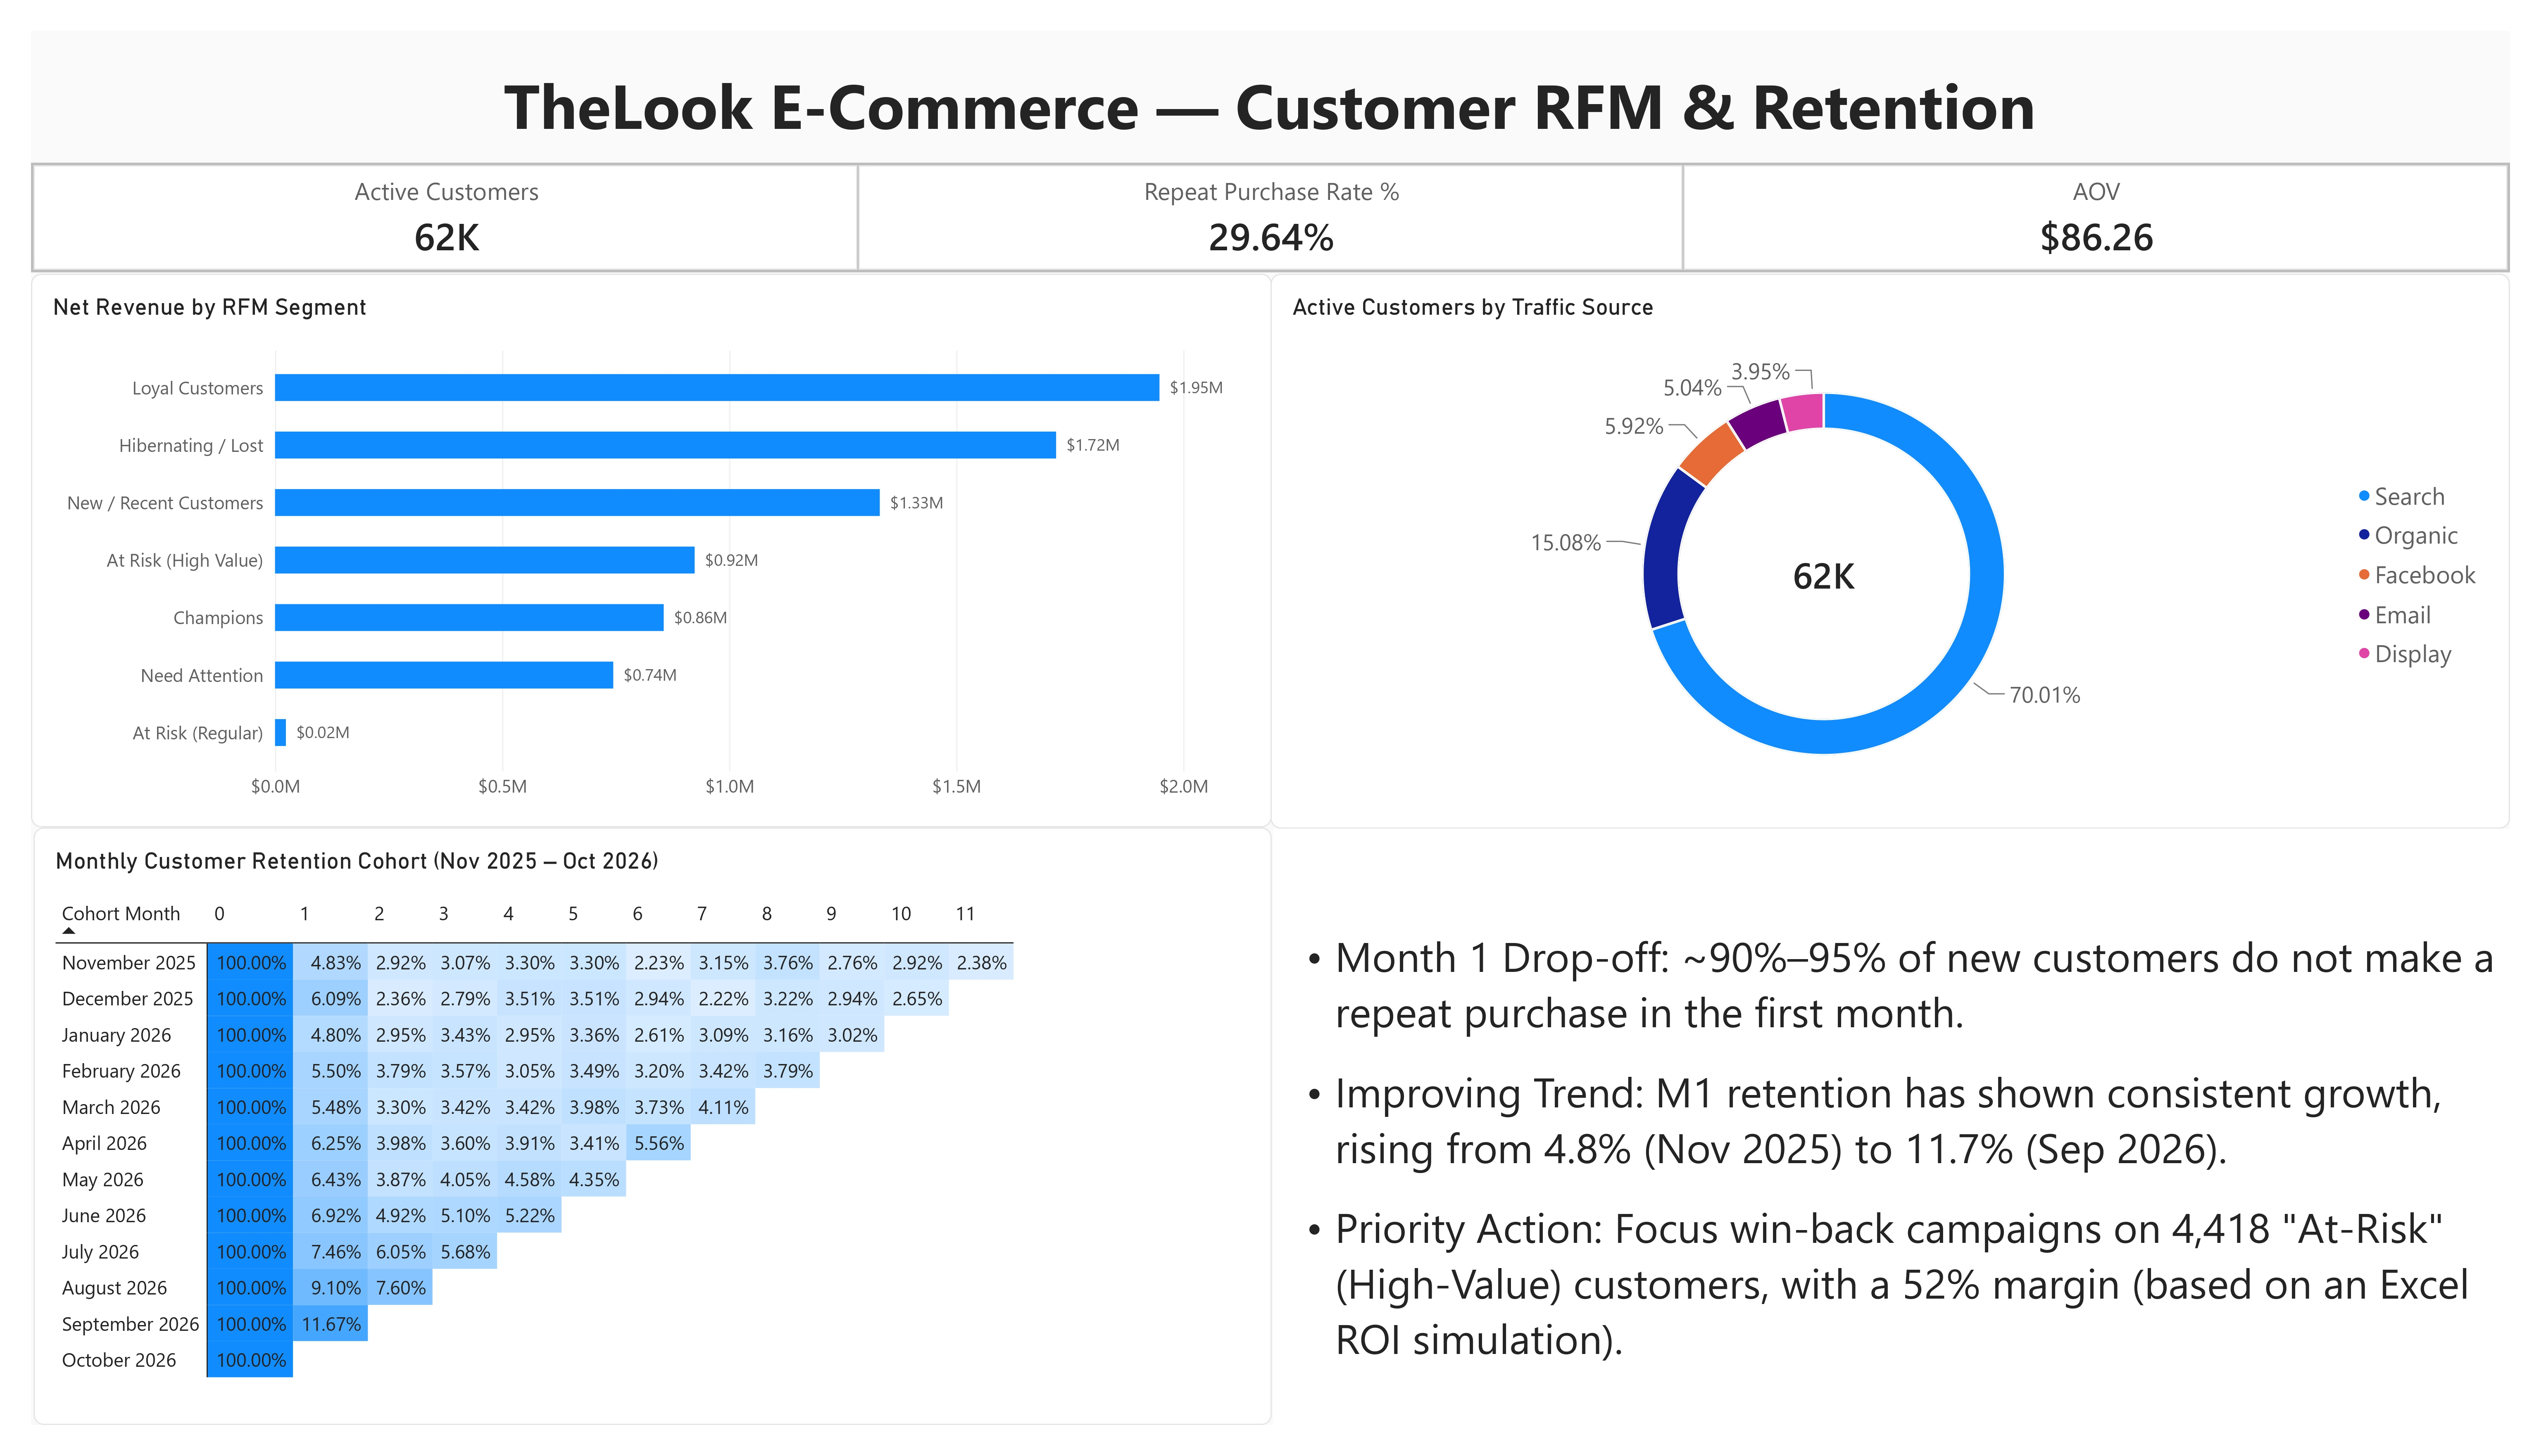

The page's visual inventory and layout, read from the dashboard file:
{"tool":"powerbi","page":{"name":"Customer RFM & Retention","canvas":[1920,1080],"ordinal":1},"visuals":[{"type":"cardVisual","fields":{"Data":["_Measures.Active Customers","_Measures.Repeat Purchase Rate %","_Measures.AOV"]},"box":[0,101.8,1920.8,85.4],"z":0},{"type":"clusteredBarChart","title":"Net Revenue by RFM Segment","fields":{"Category":["dim_customers_rfm.rfm_segment"],"Y":["_Measures.Net Revenue"]},"box":[0,187.8,961,429.3],"z":1000},{"type":"donutChart","title":"Active Customers by Traffic Source","fields":{"Category":["dim_customers_rfm.traffic_source"],"Y":["_Measures.Active Customers"]},"box":[960,188,960,430],"z":2000},{"type":"textbox","box":[366,24,1190,78],"z":3000},{"type":"pivotTable","title":"Monthly Customer Retention Cohort (Nov 2025 – Oct 2026)","fields":{"Columns":["agg_cohort_retention.month_index"],"Rows":["agg_cohort_retention.cohort_month"],"Values":["Sum(agg_cohort_retention.retention_rate)"]},"box":[2,617,959,463],"z":4000},{"type":"textbox","box":[962,618,958,462],"z":5000}]}

Visuals, with their boxes on the page's 1920x1080 design canvas (x1, y1, x2, y2). These are canvas units, not pixel positions in the 2541x1456 screenshot, which may show the page scaled, cropped or inside an application window:
cardVisual - _Measures.Active Customers x _Measures.Repeat Purchase Rate %: BBox(0, 102, 1921, 187)
"Net Revenue by RFM Segment" clusteredBarChart: BBox(0, 188, 961, 617)
"Active Customers by Traffic Source" donutChart: BBox(960, 188, 1920, 618)
textbox: BBox(366, 24, 1556, 102)
"Monthly Customer Retention Cohort (Nov 2025 – Oct 2026)" pivotTable: BBox(2, 617, 961, 1080)
textbox: BBox(962, 618, 1920, 1080)
